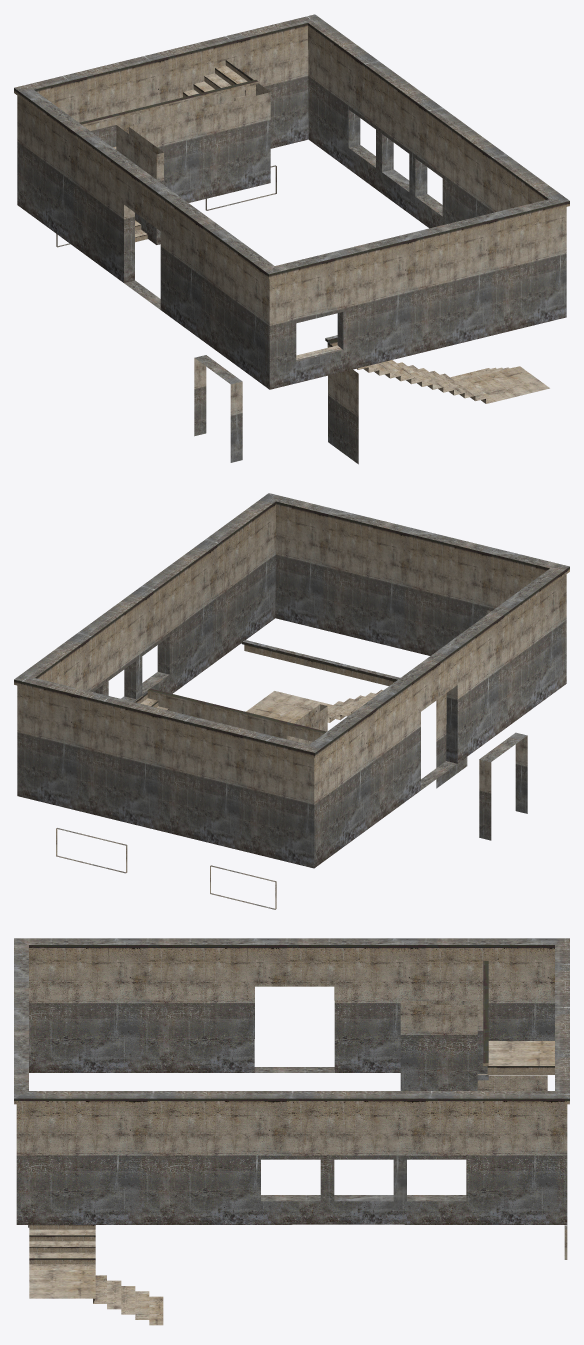
Rendered from buildingb_id_1_wallstuccob_dm_0_lev1.glb.
3 views of the same model, one above another, from view 1: azimuth 30°, elevation 25°; view 2: azimuth 150°, elevation 25°; view 3: azimuth 270°, elevation 25° (orthographic). The views are drawn at different scales.
Visible parts, largest first — view 1: buildingb_id_1_wallstuccob_dm_0_lev1; view 2: buildingb_id_1_wallstuccob_dm_0_lev1; view 3: buildingb_id_1_wallstuccob_dm_0_lev1.
Part boxes in pixels (x1,y1,x2,y2): buildingb_id_1_wallstuccob_dm_0_lev1: [14, 14, 569, 464]; buildingb_id_1_wallstuccob_dm_0_lev1: [14, 493, 569, 909]; buildingb_id_1_wallstuccob_dm_0_lev1: [14, 938, 569, 1325].
Size of the model in its own units: 7.02 by 4.88 by 10.29.
1 material, 1 textured.
